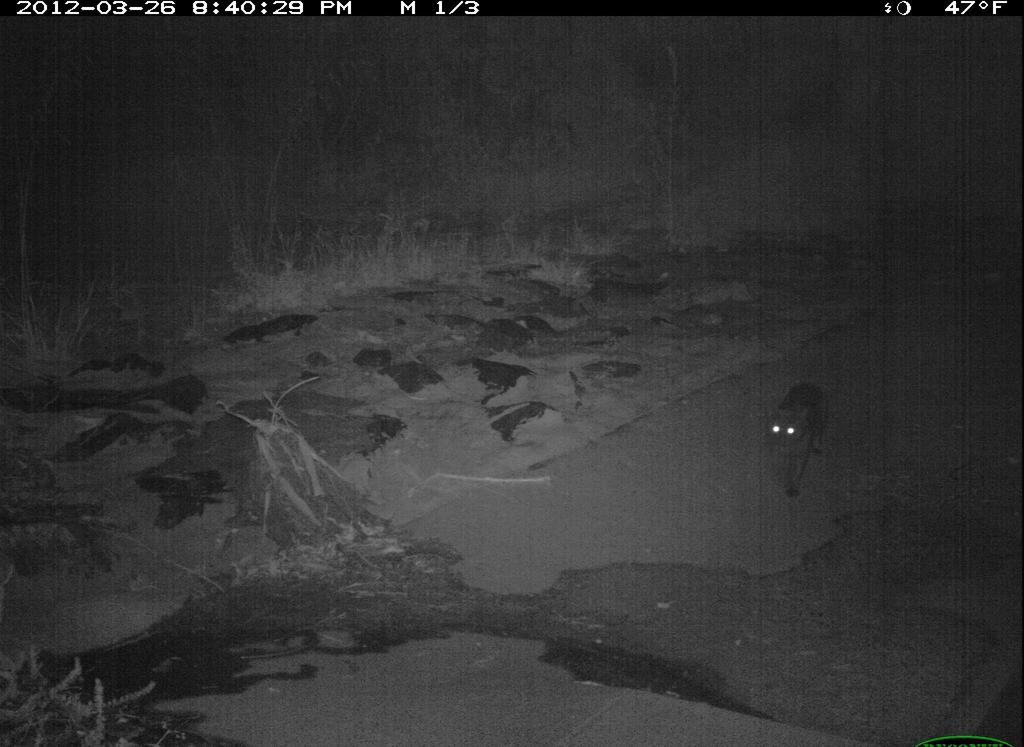cat: (753, 364, 840, 506)
